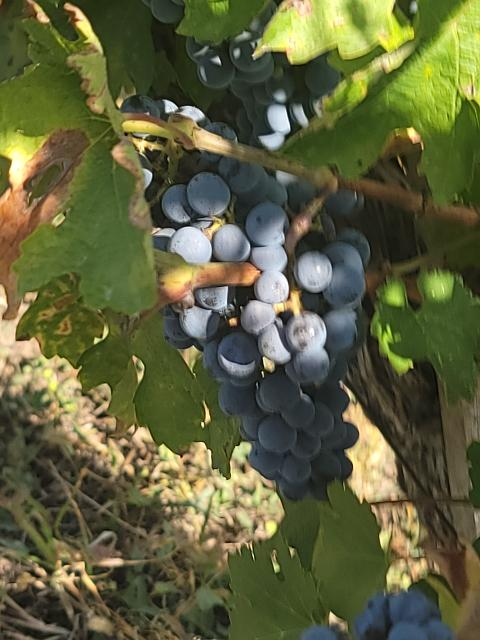grapes: (161, 158, 370, 501)
